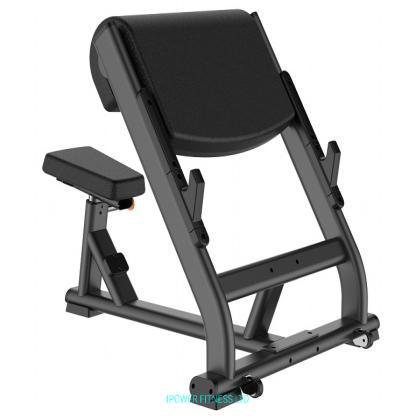arm curl machine: (42, 8, 382, 391)
